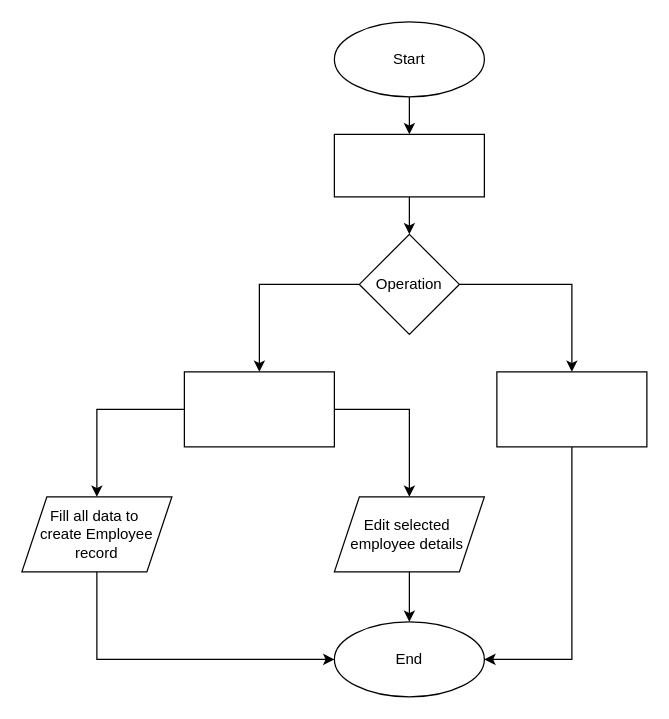
Some shapes in this 669 by 719 pixel diagram are drawn without their labels. Each missing label, with the centre of its shape:
All entires are displayed: [408,165]
Delete Employee record from the Database: [571,409]
Validation of DOB, Age and Salary: [258,409]
